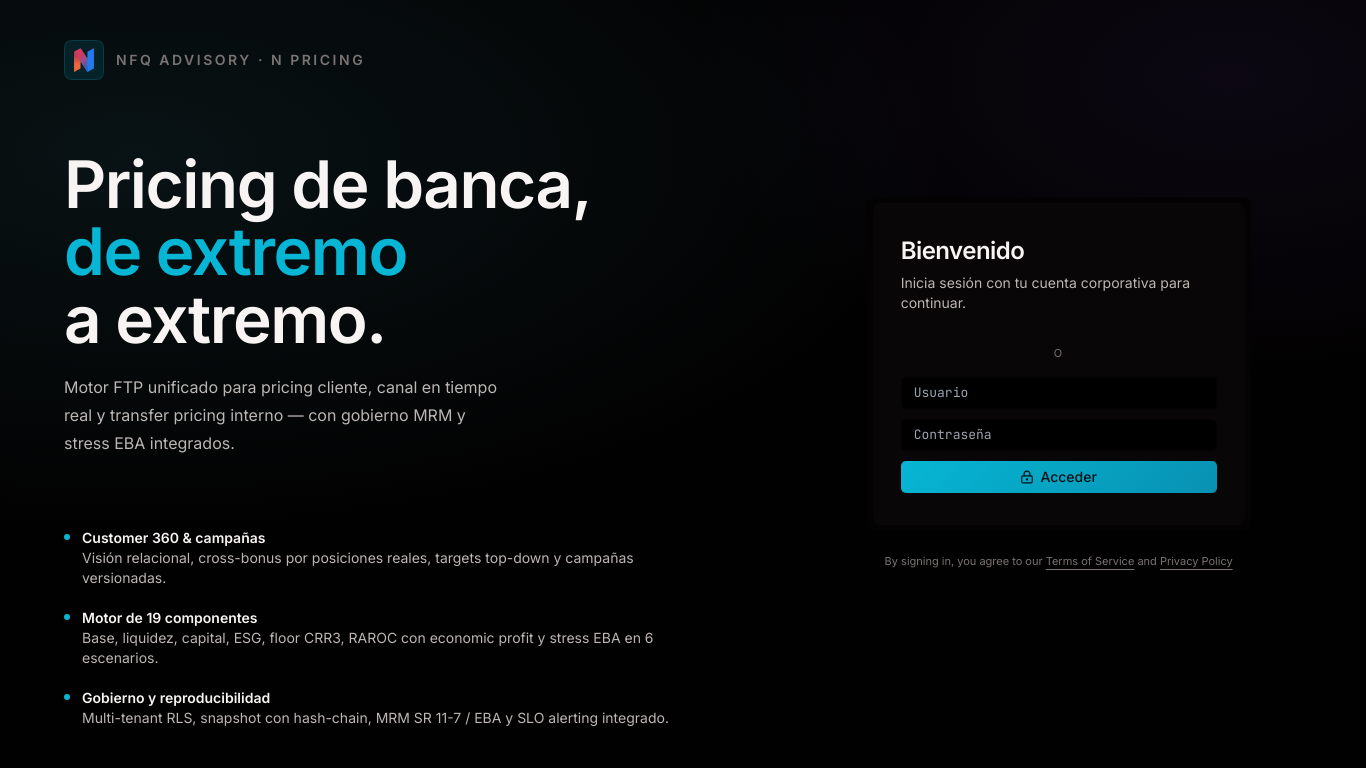
Login › demo login with invalid credentials shows error
Type "wrong" into the field with test id "demo-username" at (1059,393), box [901,377,1217,409]
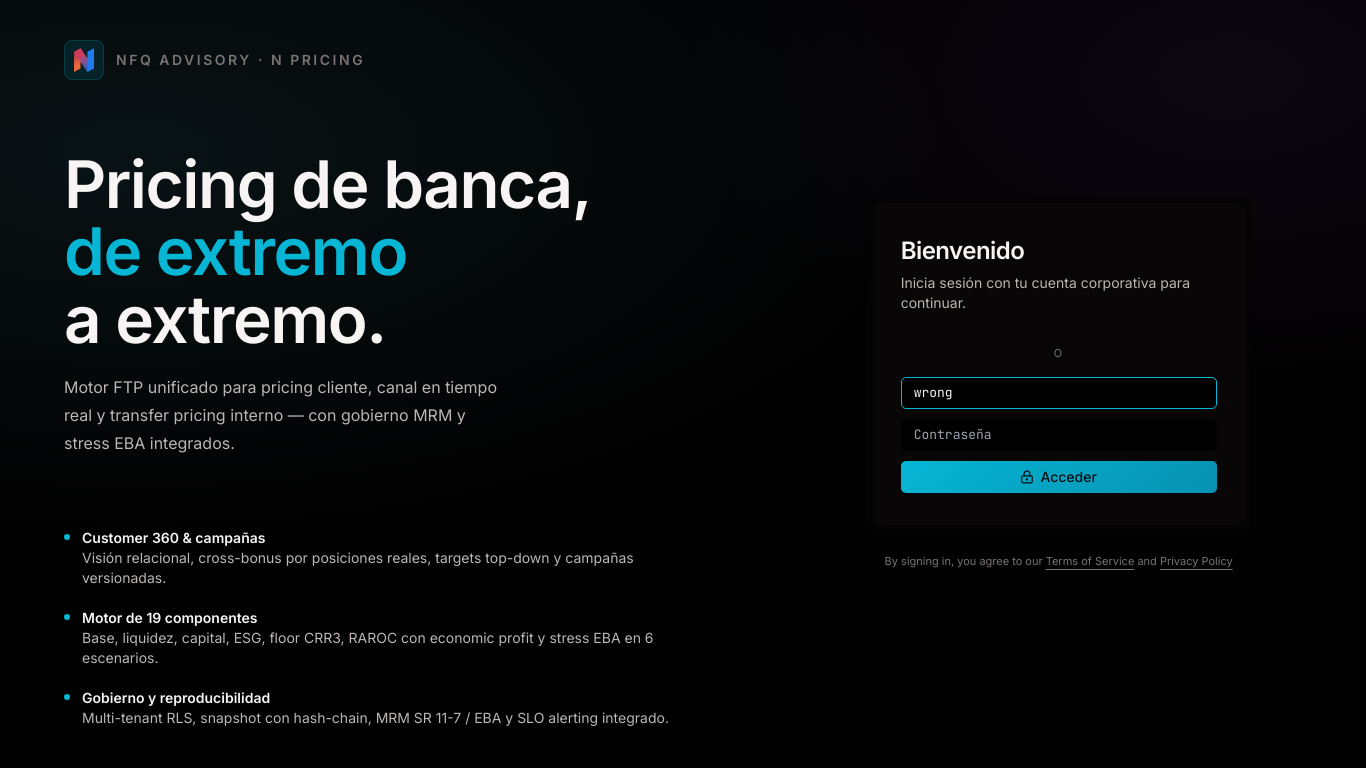
Type "wrong" into the password field with test id "demo-password" at (1059,435), box [901,419,1217,451]
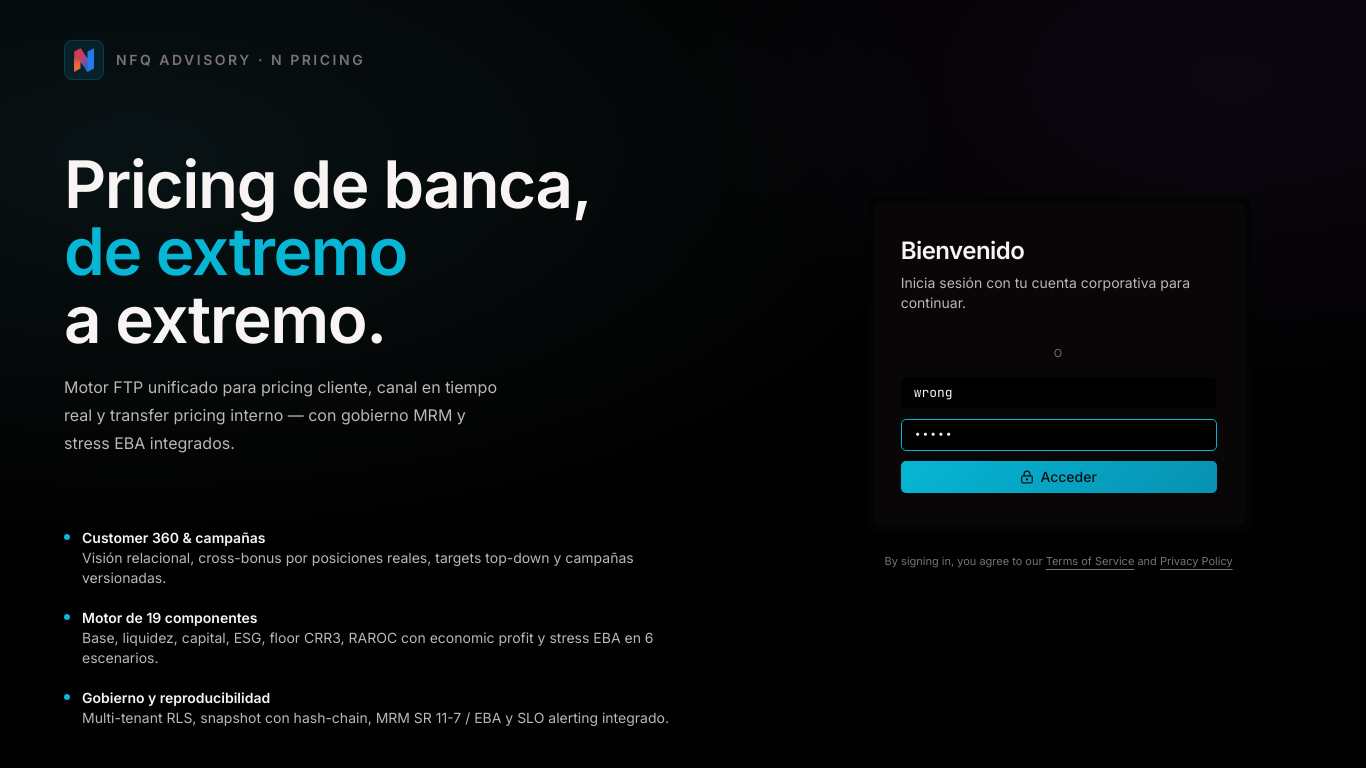
Click the button with test id "demo-login-btn" at (1059,477), box [901,461,1217,493]
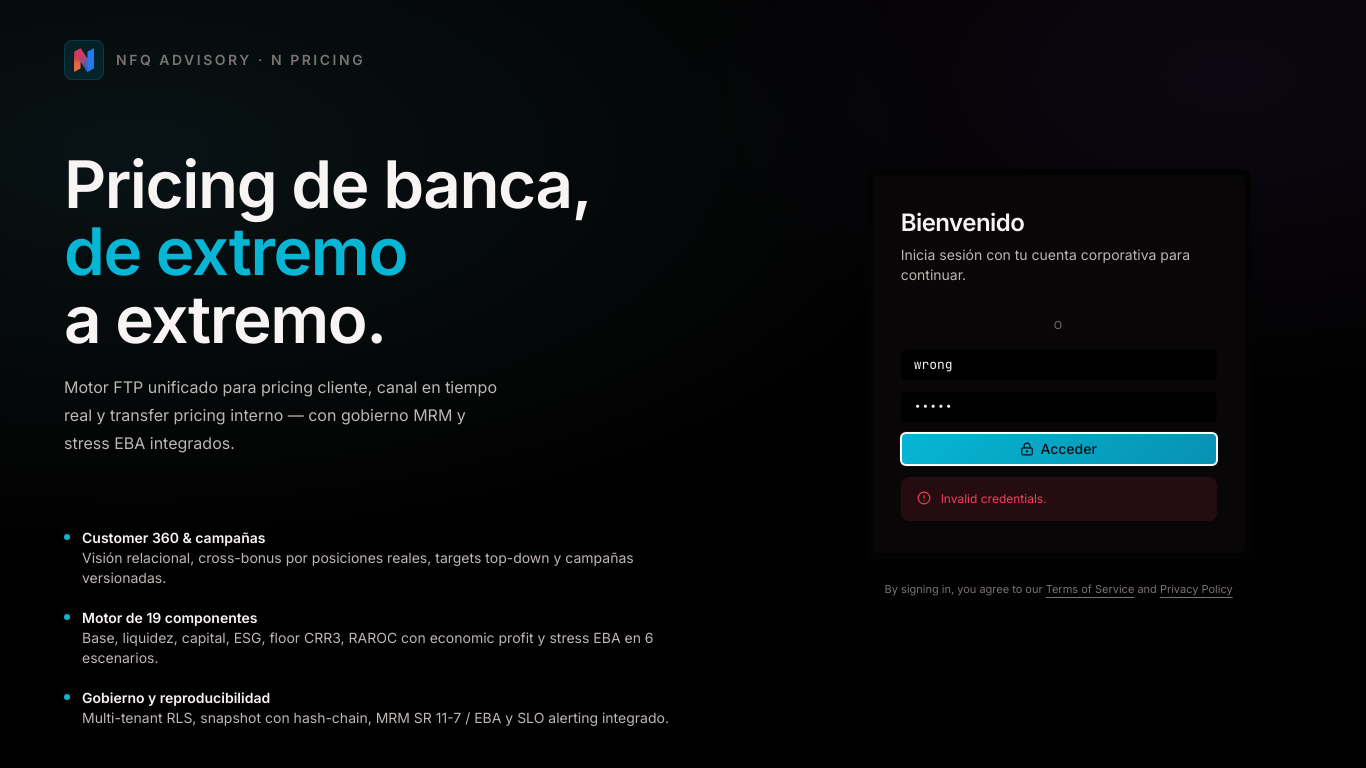
Result: the message with test id "login-error" reads "Invalid credentials." at [941,491,1047,506]
